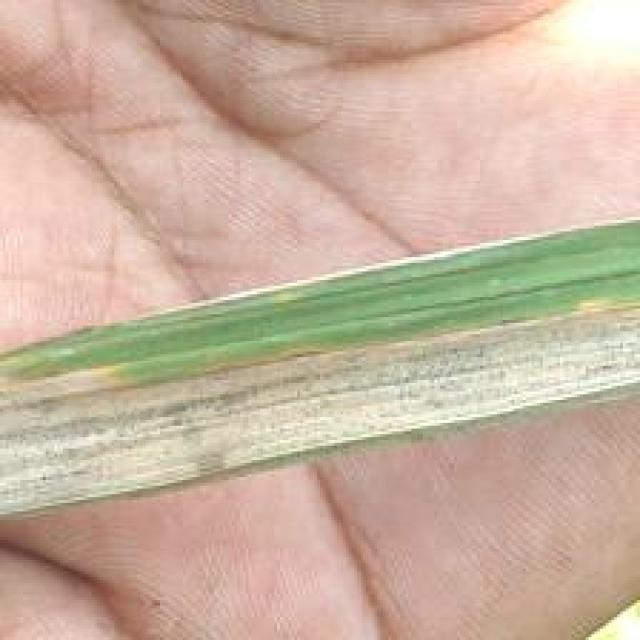Bacterial_Leaf_Blight: (89, 314, 637, 460)
